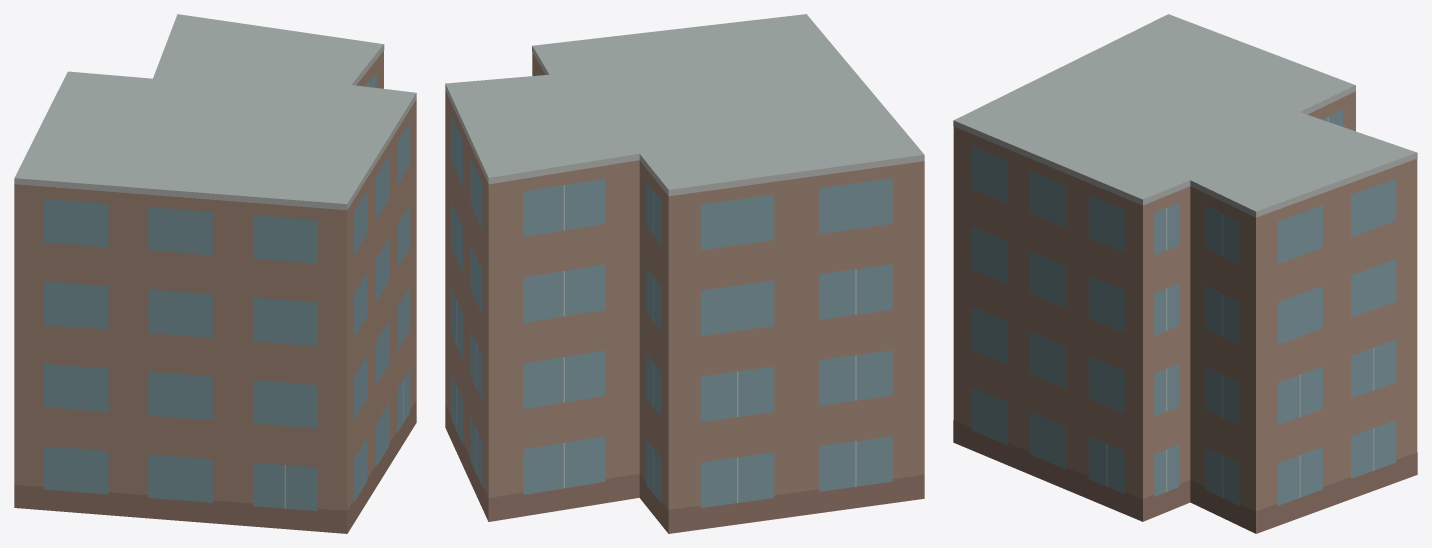
The model's file is survey-upis-32758674.glb.
3 views of the same model, side by side, from view 1: azimuth 30°, elevation 25°; view 2: azimuth 150°, elevation 25°; view 3: azimuth 270°, elevation 25° (orthographic). The views are drawn at different scales.
Parts seen in each view (by area): view 1: survey-upis-32758674.tmp; view 2: survey-upis-32758674.tmp; view 3: survey-upis-32758674.tmp.
Part boxes in pixels (left/top/right/bottom): survey-upis-32758674.tmp: left=14, top=14, right=416, bottom=533; survey-upis-32758674.tmp: left=445, top=14, right=924, bottom=533; survey-upis-32758674.tmp: left=953, top=14, right=1417, bottom=533.
Size of the model in its own units: 17.38 by 13.2 by 17.23.
